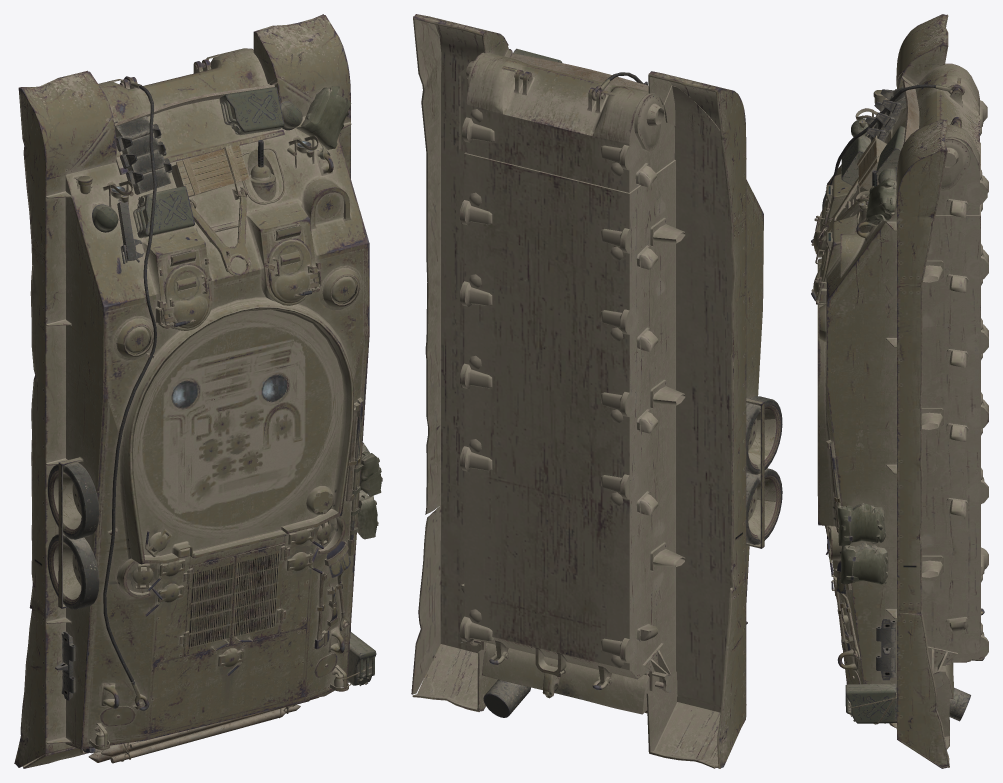
The model's file is Hull.glb.
3 renders of one model, left to right at view 1: azimuth 30°, elevation 25°; view 2: azimuth 150°, elevation 25°; view 3: azimuth 270°, elevation 25°, orthographic. The views are drawn at different scales.
Visible parts, largest first — view 1: set_0_group_0, set_0_group_1; view 2: set_0_group_0, set_0_group_1; view 3: set_0_group_0, set_0_group_1.
Boxes of the visible parts, x1=… form: set_0_group_0: x1=14, y1=14, x2=369, y2=768; set_0_group_1: x1=47, y1=84, x2=382, y2=763; set_0_group_0: x1=411, y1=14, x2=763, y2=768; set_0_group_1: x1=459, y1=48, x2=782, y2=717; set_0_group_0: x1=811, y1=14, x2=988, y2=768; set_0_group_1: x1=837, y1=80, x2=970, y2=728.
Bounding box in the file's own units: 3.11 × 6.43 × 1.67.
2 materials, 2 textured.
